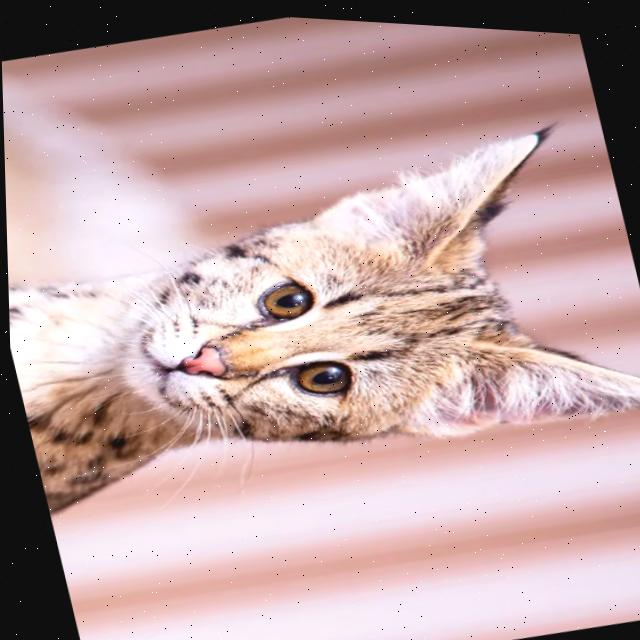Savannah: (2, 82, 640, 582)
